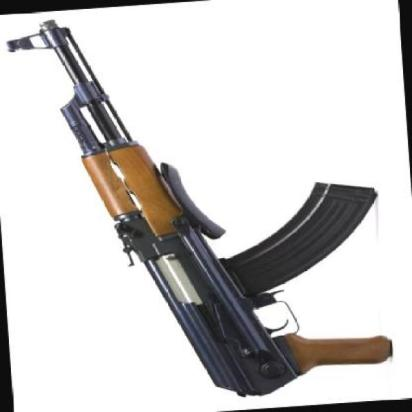Gun: (14, 22, 411, 412)
